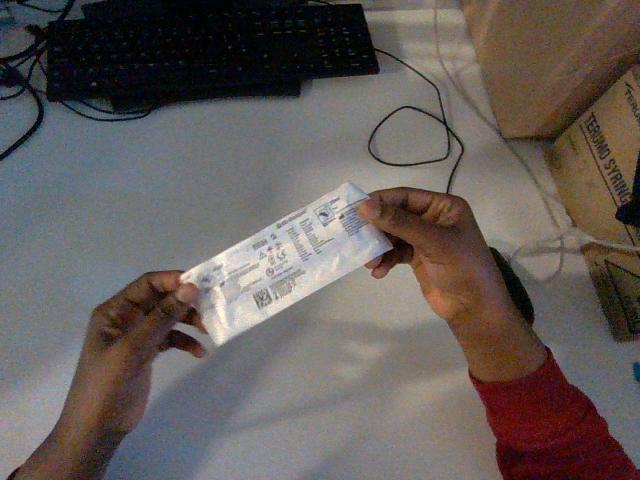syringe: (181, 182, 391, 344)
